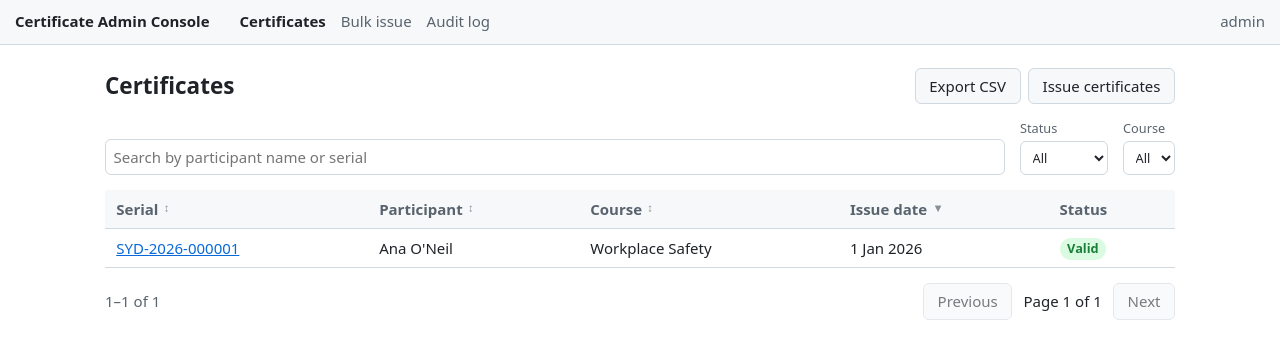
Test: Export CSV on the list page › shows an error and lets you try again
The width and height of the screenshot is (1280, 337).
Check: the table is shown, box [105,190,1175,268]
Click the button "Export CSV" at coordinates (968, 86), box [915,68,1021,104]
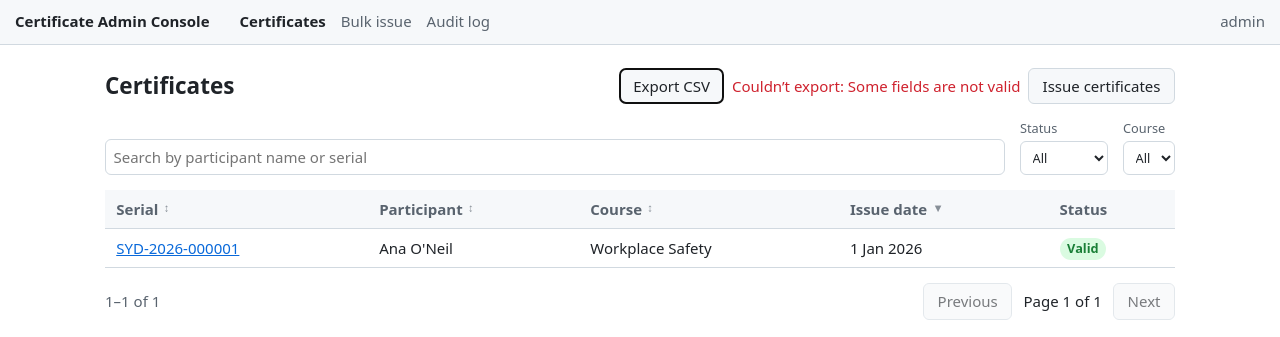
Check: the message reads "Couldn’t export: Some fields are not valid", box [732,74,1021,97]
Click the button "Export CSV" at coordinates (672, 86), box [619,68,724,104]
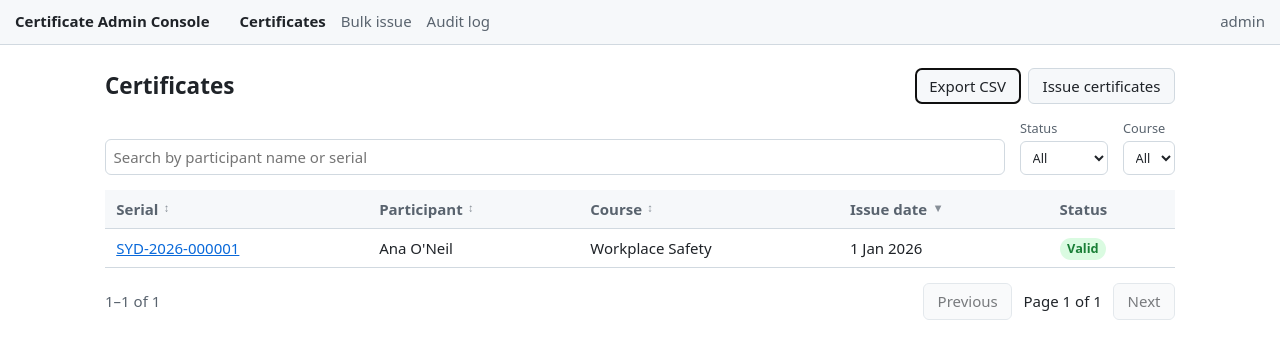
Check: the message "Couldn’t export: Some fields are not valid" is gone
